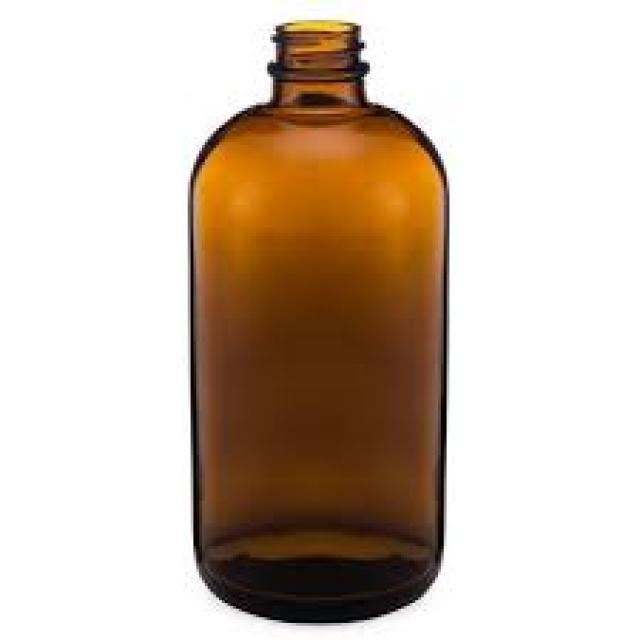Glass: (185, 19, 448, 625)
